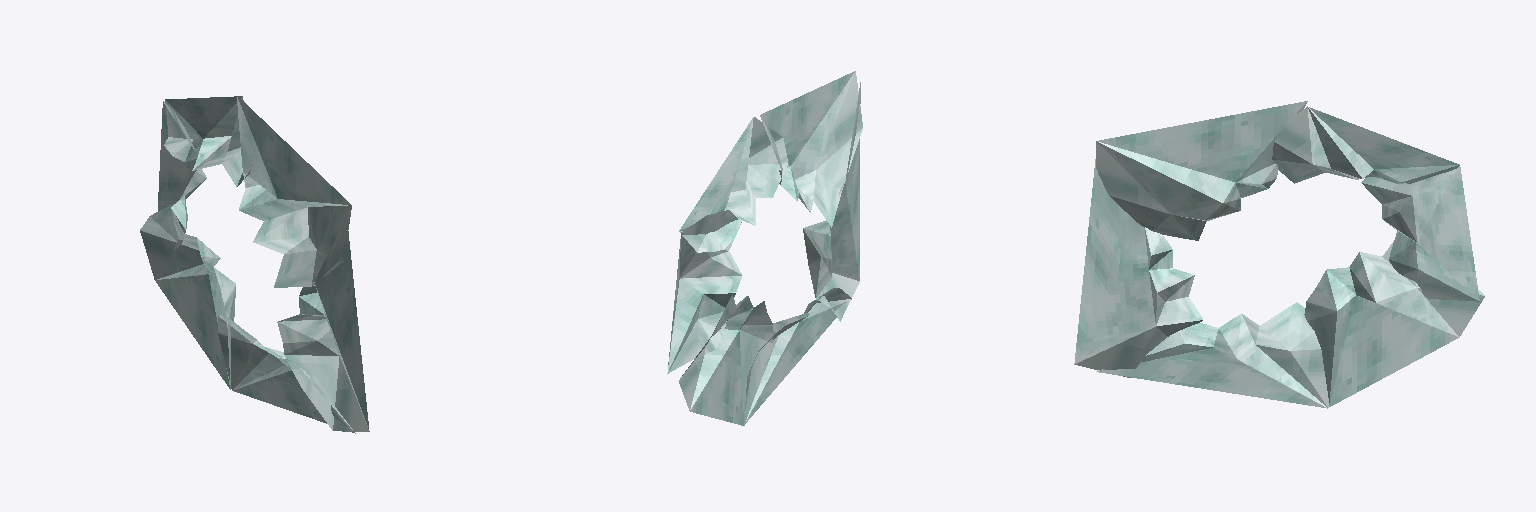
3 views of the same model, side by side, from view 1: azimuth 30°, elevation 25°; view 2: azimuth 150°, elevation 25°; view 3: azimuth 270°, elevation 25° (orthographic).
Visible parts, largest first — view 1: level2; view 2: level2; view 3: level2.
Part boxes in pixels (x1,y1,x2,y2): level2: (140, 96, 369, 433); level2: (667, 71, 862, 425); level2: (1074, 101, 1484, 408).
Bounding box in the file's own units: 552 × 3011 × 3680.
Materials: 1 (1 with a texture image).